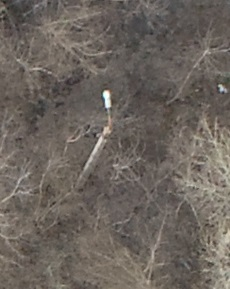opora: (72, 88, 118, 191)
